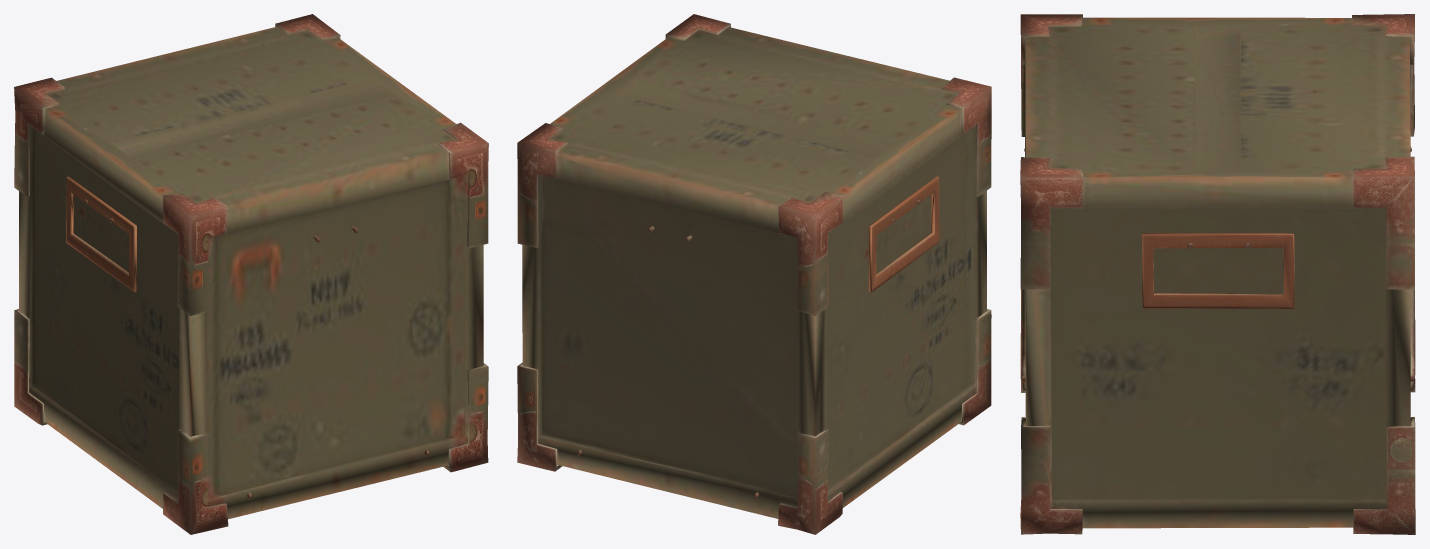
Rendered from crate.glb.
The picture shows the model from 3 angles, left to right: view 1: azimuth 30°, elevation 25°; view 2: azimuth 150°, elevation 25°; view 3: azimuth 270°, elevation 25°; orthographic projection. The views are drawn at different scales.
Size of the model in its own units: 1 by 1 by 1.
Materials: 1 (1 with a texture image).
